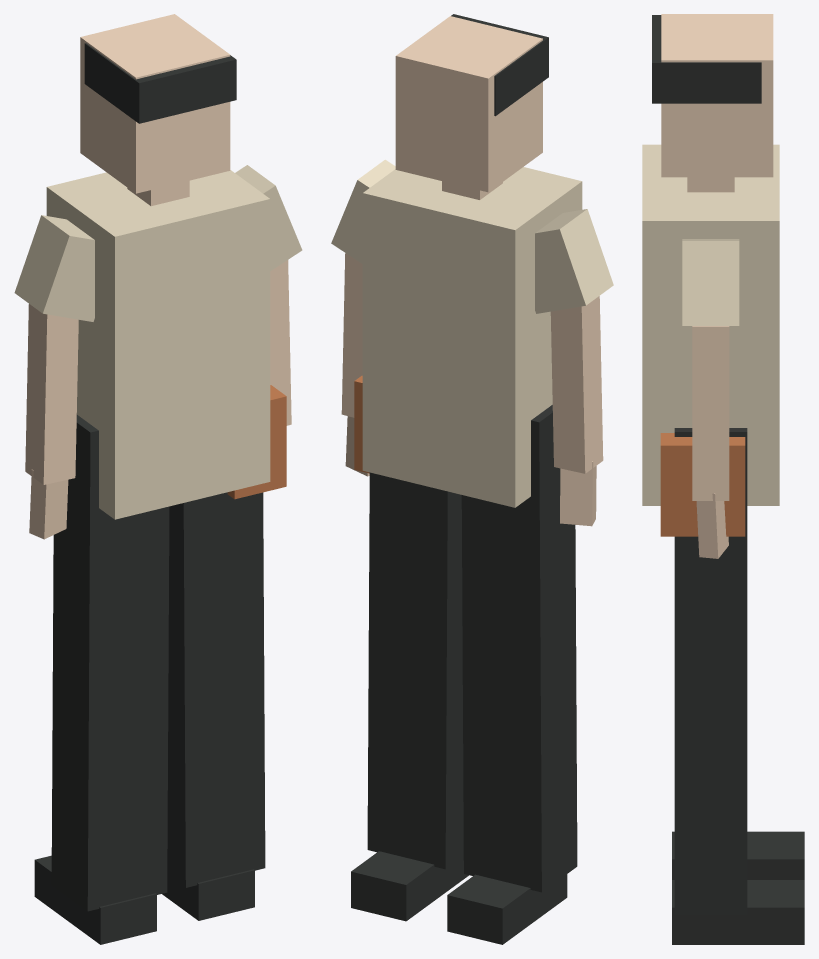
Rendered from pedestrian_11_far.glb.
3 views of the same model, side by side, from view 1: azimuth 30°, elevation 25°; view 2: azimuth 150°, elevation 25°; view 3: azimuth 270°, elevation 25° (orthographic). The views are drawn at different scales.
Parts seen in each view (by area): view 1: pedestrian_11 crowd_trousers.001, pedestrian_11 crowd_shirt.001, pedestrian_11 crowd_skin.001, pedestrian_11 crowd_rubber.001, pedestrian_11 crowd_accessory.001; view 2: pedestrian_11 crowd_trousers.001, pedestrian_11 crowd_shirt.001, pedestrian_11 crowd_skin.001, pedestrian_11 crowd_rubber.001, pedestrian_11 crowd_accessory.001; view 3: pedestrian_11 crowd_shirt.001, pedestrian_11 crowd_trousers.001, pedestrian_11 crowd_skin.001, pedestrian_11 crowd_rubber.001, pedestrian_11 crowd_accessory.001.
Boxes of the visible parts, left/top/right/bottom form: pedestrian_11 crowd_trousers.001: left=51, top=414, right=265, bottom=911; pedestrian_11 crowd_shirt.001: left=14, top=165, right=302, bottom=519; pedestrian_11 crowd_skin.001: left=25, top=14, right=291, bottom=539; pedestrian_11 crowd_rubber.001: left=34, top=43, right=254, bottom=944; pedestrian_11 crowd_accessory.001: left=227, top=385, right=286, bottom=499; pedestrian_11 crowd_trousers.001: left=367, top=405, right=577, bottom=892; pedestrian_11 crowd_shirt.001: left=331, top=159, right=613, bottom=507; pedestrian_11 crowd_skin.001: left=341, top=16, right=603, bottom=526; pedestrian_11 crowd_rubber.001: left=351, top=14, right=567, bottom=944; pedestrian_11 crowd_accessory.001: left=354, top=375, right=369, bottom=473; pedestrian_11 crowd_shirt.001: left=642, top=144, right=779, bottom=505; pedestrian_11 crowd_trousers.001: left=674, top=428, right=747, bottom=914; pedestrian_11 crowd_skin.001: left=661, top=14, right=773, bottom=558; pedestrian_11 crowd_rubber.001: left=652, top=15, right=804, bottom=944; pedestrian_11 crowd_accessory.001: left=660, top=433, right=745, bottom=536.
Bounding box in the file's own units: 0.5488 × 1.74 × 0.2952.
